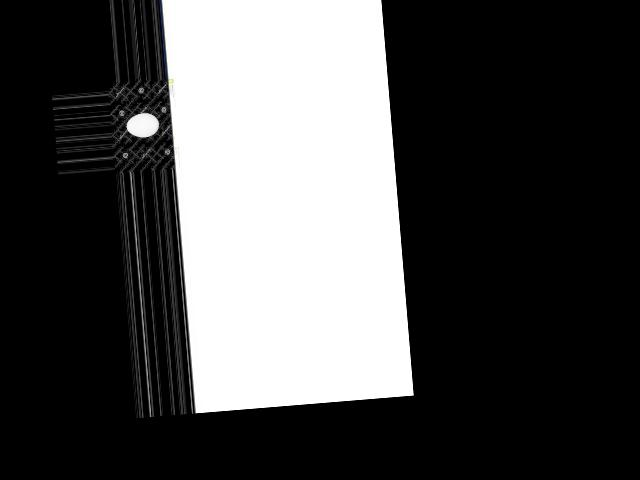egg: (126, 112, 160, 139)
